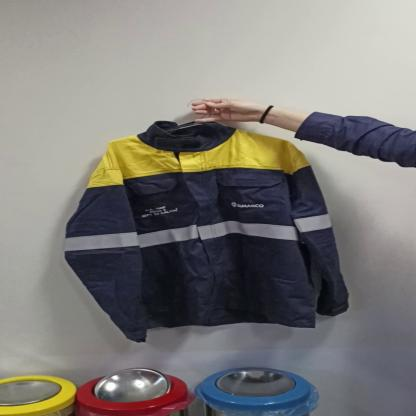C_eletrica: (63, 127, 359, 337)
